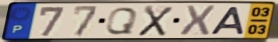7: (37, 6, 67, 38), (72, 4, 100, 38)
A: (208, 5, 246, 35)
Q: (103, 6, 140, 36)
X: (178, 4, 217, 37), (136, 5, 175, 37)
